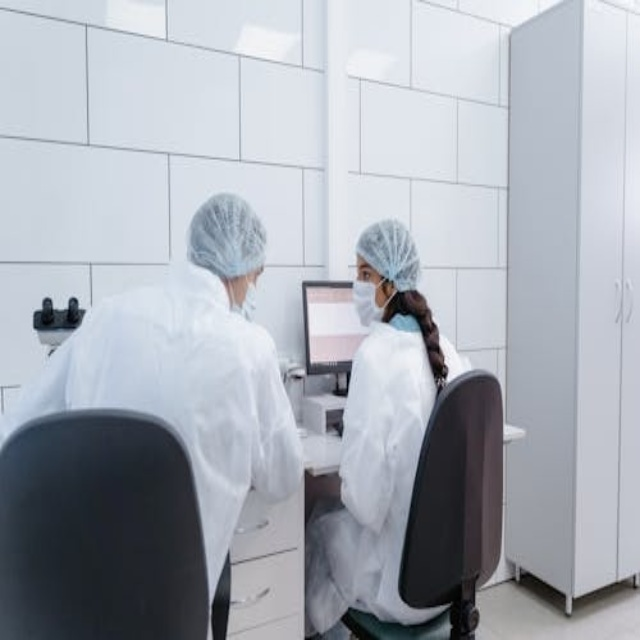Mascara: (352, 277, 390, 328), (233, 274, 258, 321)
Sin_gafas: (352, 259, 374, 283)
